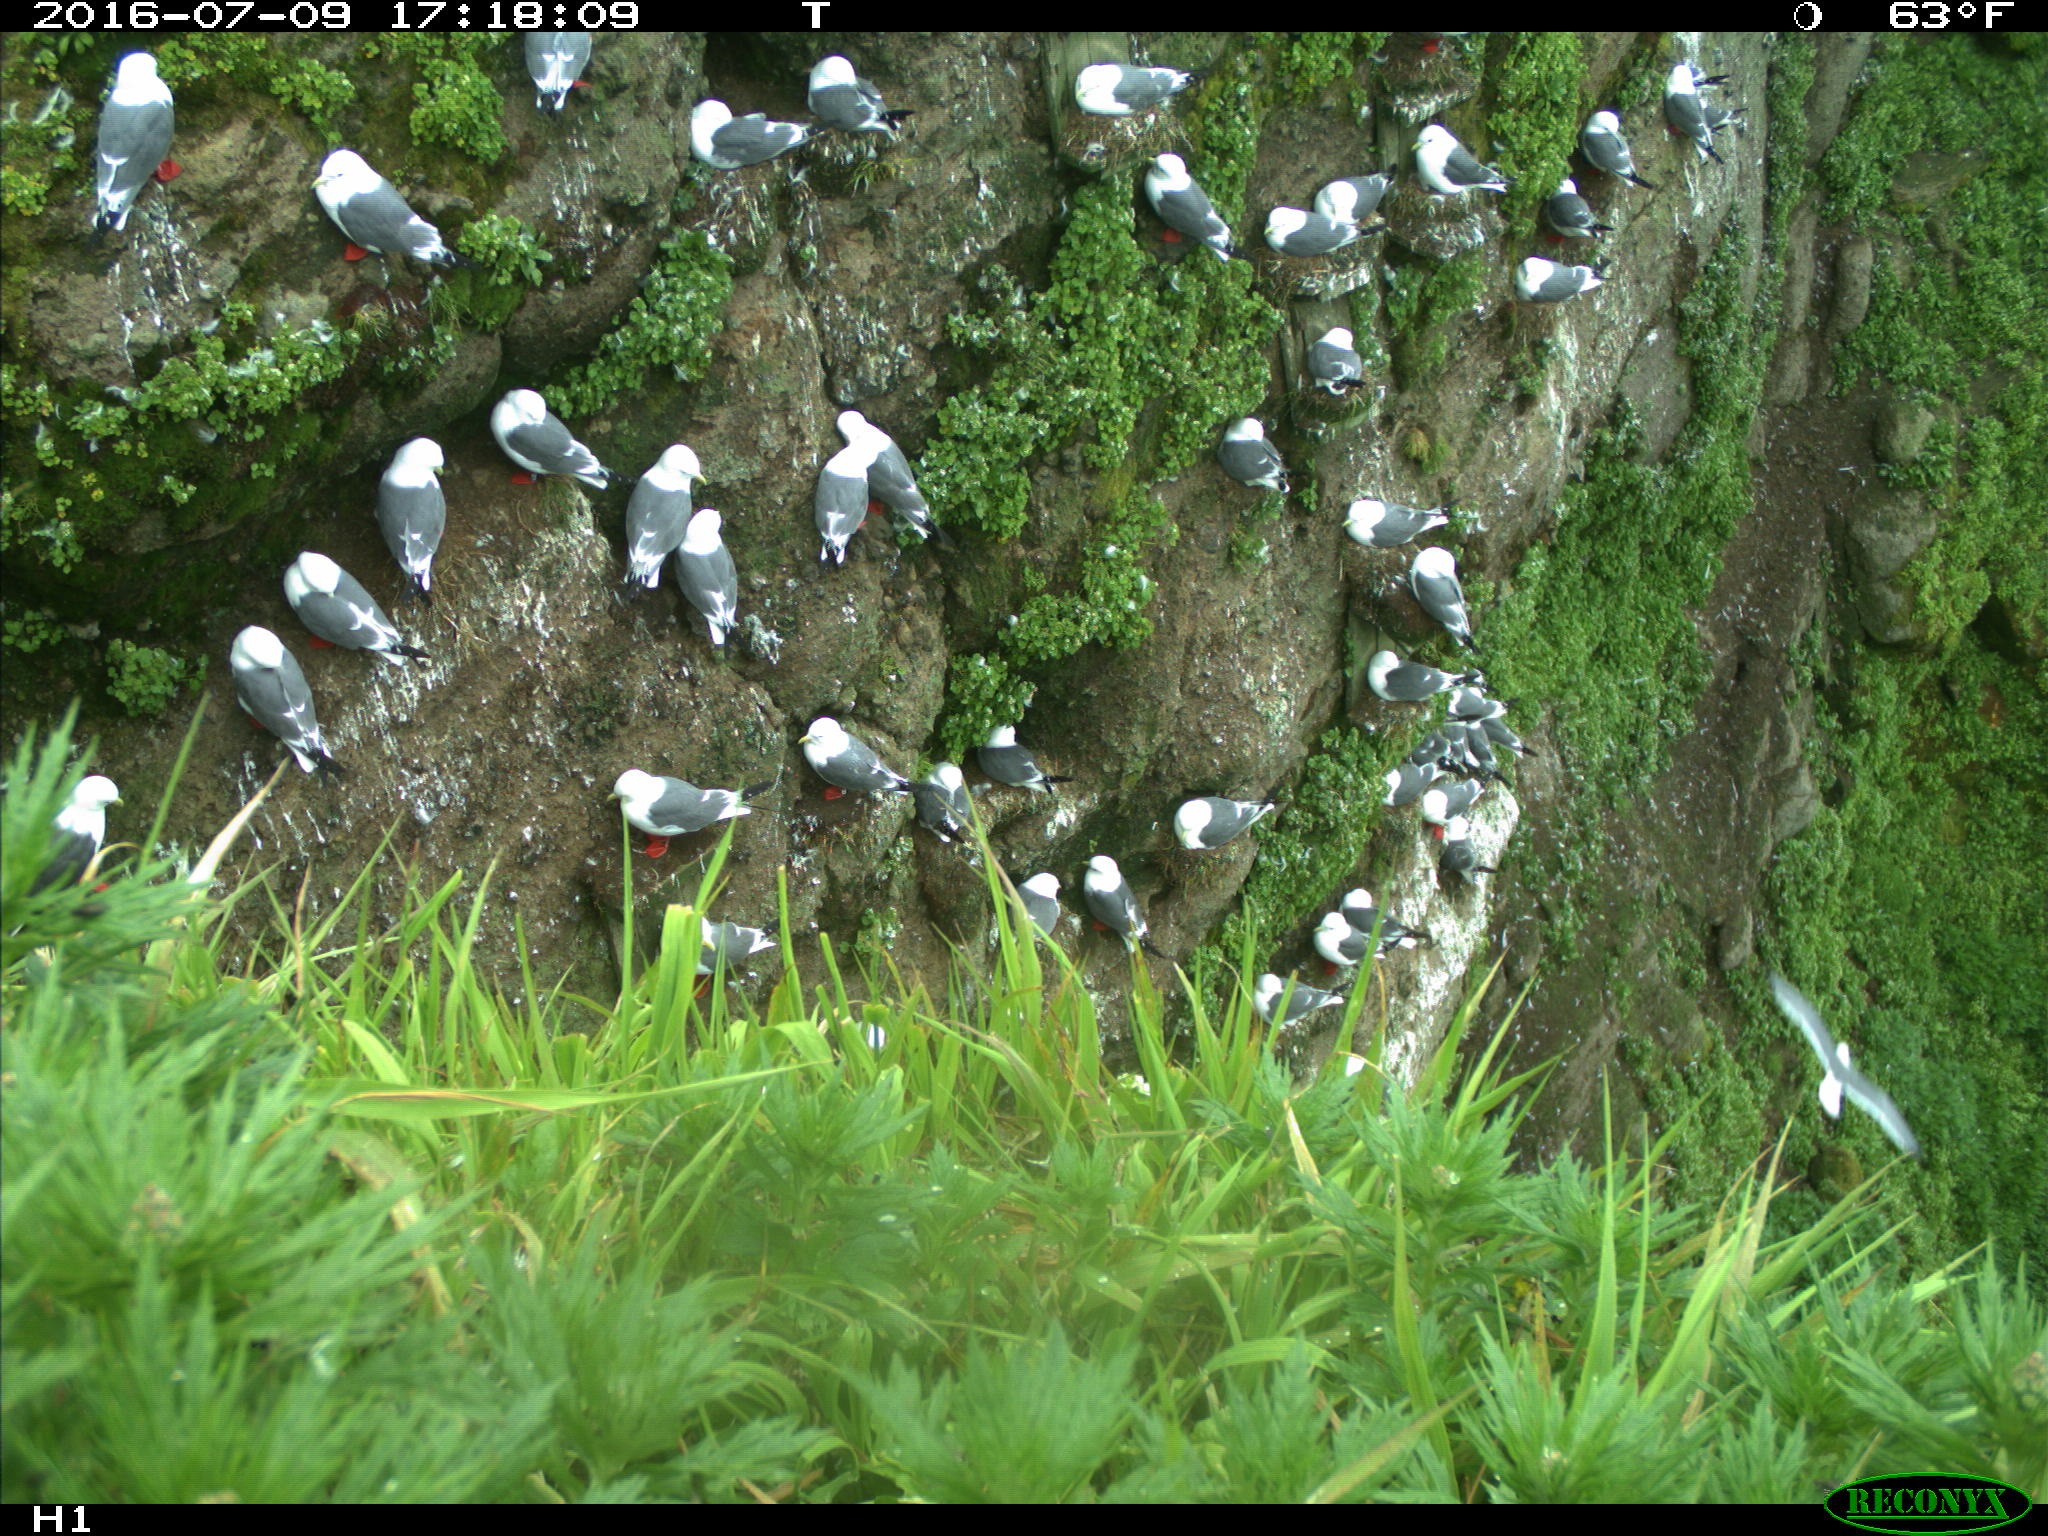Kittiwake: (68, 34, 195, 236), (310, 119, 431, 329), (472, 365, 627, 513), (369, 419, 524, 563), (780, 699, 898, 876), (239, 537, 345, 721), (613, 431, 724, 605), (27, 742, 139, 913), (829, 399, 951, 549), (1126, 140, 1250, 278), (598, 737, 724, 871), (660, 77, 819, 174), (666, 499, 764, 649), (1040, 45, 1213, 127), (1393, 124, 1522, 227), (966, 708, 1090, 813), (1313, 855, 1434, 962), (811, 419, 895, 573), (645, 900, 806, 979), (785, 50, 926, 140), (1430, 676, 1543, 786), (1414, 513, 1514, 634), (1195, 408, 1309, 513), (1655, 60, 1746, 186), (1329, 474, 1426, 594), (1234, 950, 1347, 1050), (1413, 757, 1492, 895), (984, 855, 1080, 962), (1063, 858, 1135, 999), (1321, 728, 1455, 800), (900, 741, 980, 858), (1342, 637, 1463, 715), (1242, 190, 1364, 266), (1295, 153, 1408, 231), (1155, 784, 1271, 855), (513, 27, 601, 119), (1505, 252, 1609, 328), (1301, 316, 1376, 416), (1567, 82, 1637, 187), (1305, 907, 1395, 979), (1542, 169, 1659, 224), (1387, 979, 1450, 1071)
